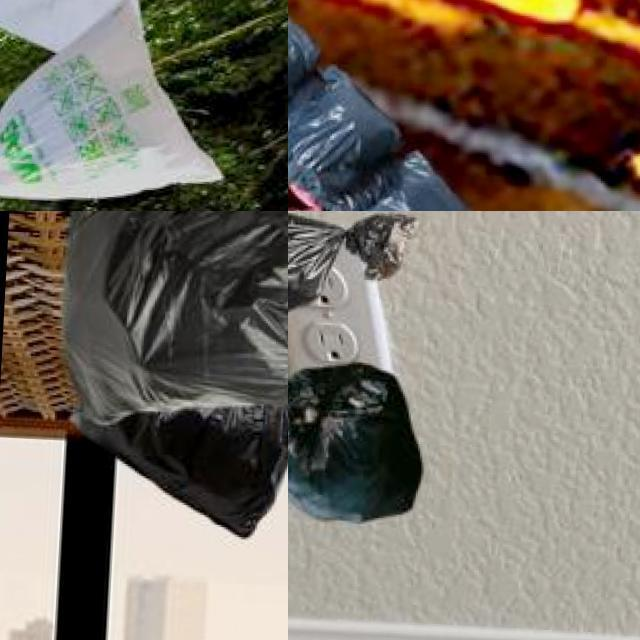waste: (0, 0, 229, 210), (63, 211, 288, 413), (86, 400, 288, 541), (288, 360, 426, 514), (288, 56, 408, 211), (288, 211, 405, 338), (356, 148, 485, 211), (288, 0, 320, 109)
